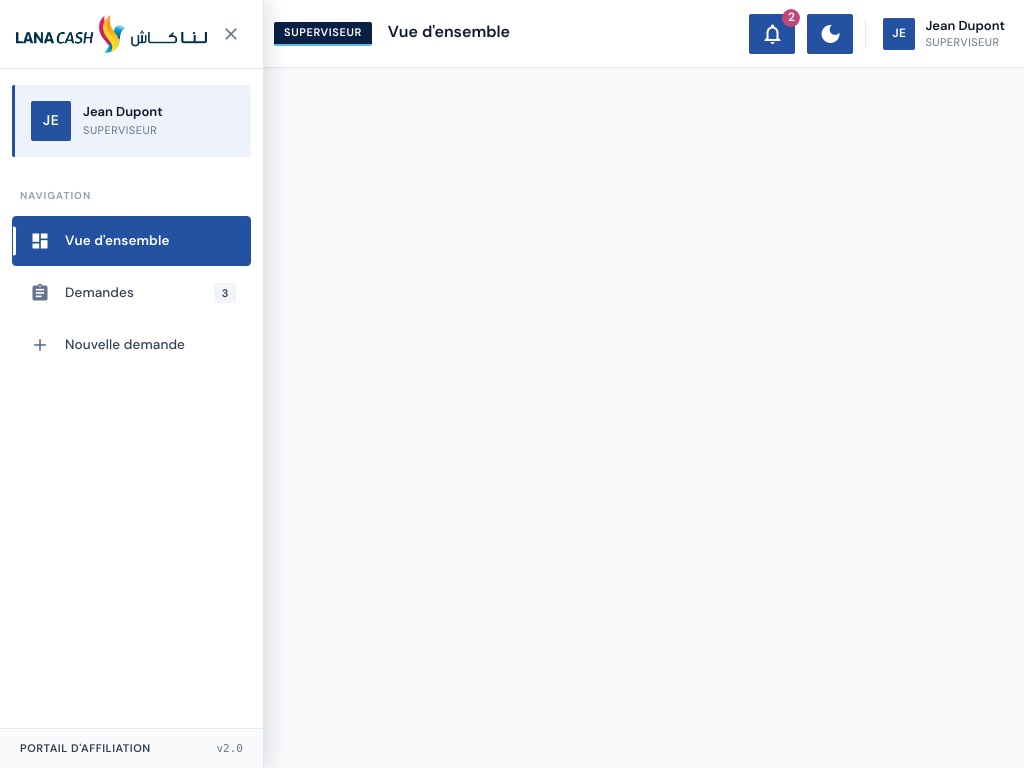
Test: WorkspaceDashboard - notifications › affiche le compteur de notifications non lues et la liste au clic
The image size is (1024, 768).
expect the text "2" is shown: met, box [782, 8, 800, 26]
Click the button named "Notifications" at coordinates (772, 34), box [749, 14, 795, 54]
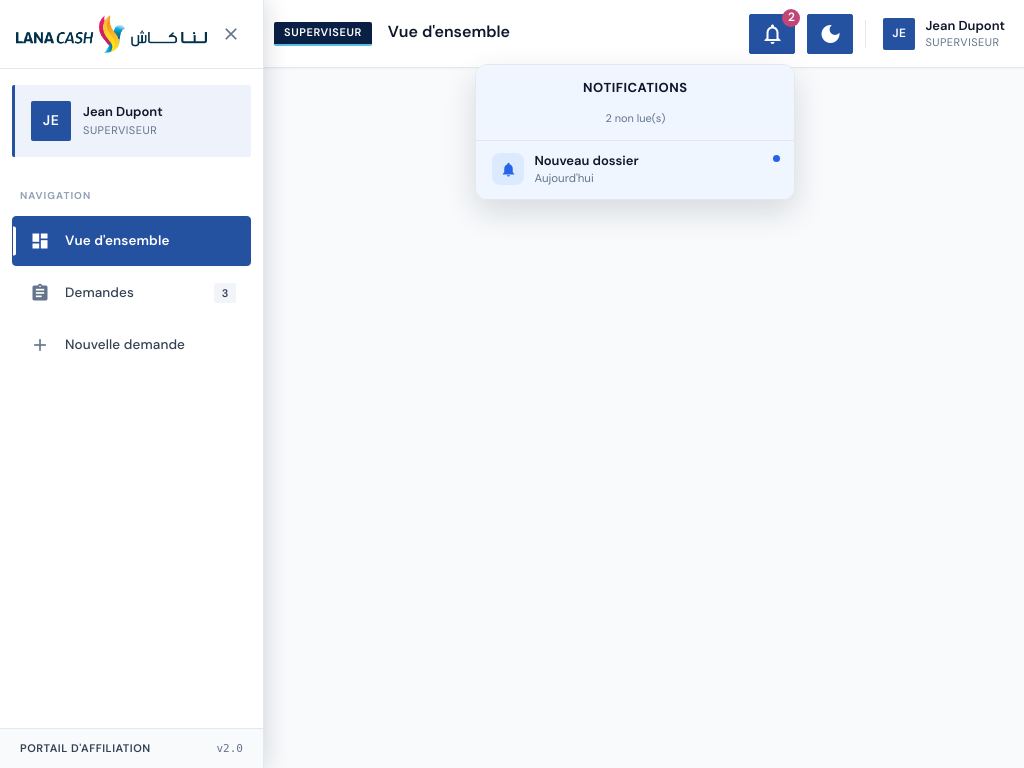
expect the text "Nouveau dossier" is shown: met, box [534, 153, 639, 170]
